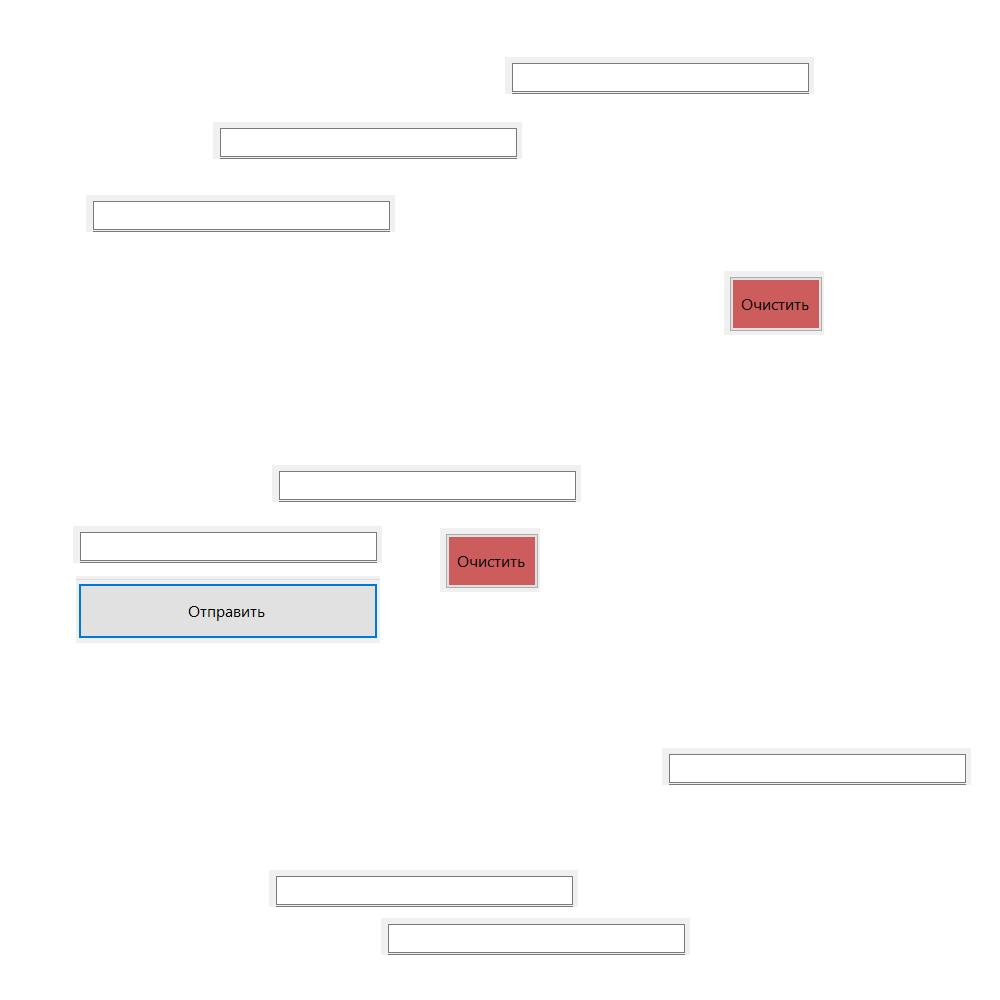Button: (76, 576, 380, 643), (440, 528, 540, 592), (724, 271, 824, 335)
EditText-: (269, 870, 578, 907), (73, 526, 382, 563), (381, 918, 690, 955), (213, 122, 522, 159), (662, 748, 971, 785), (505, 57, 814, 94), (86, 195, 395, 232), (272, 465, 581, 502)
